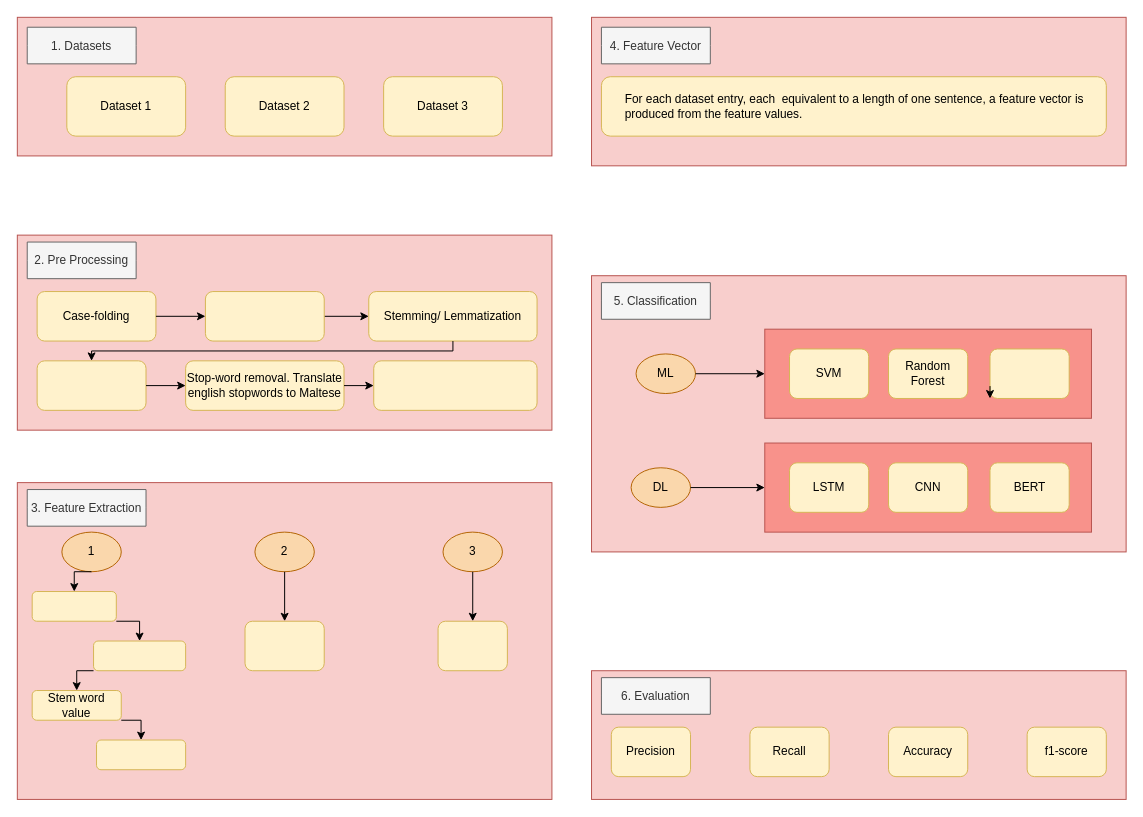
The diagram is 1143 pixels wide and 817 high, and some of its shapes have lost their labels. Here are the shapes that lost their labels. From the top down, the centre of each, then its label:
At [264,316]: "Tokenisation".
At [91,385]: "POS tagger".
At [455,385]: "Filter any redundant POS tags".
At [1029,373]: "Naive-bayes".
At [73,606]: "POS tag value".
At [139,655]: "Negation presence".
At [284,645]: "BI-gram".
At [472,645]: "TF-IDF".
At [141,754]: "Word token value".
